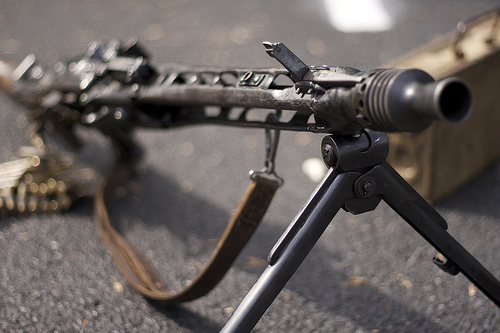rifle: (6, 36, 485, 322)
